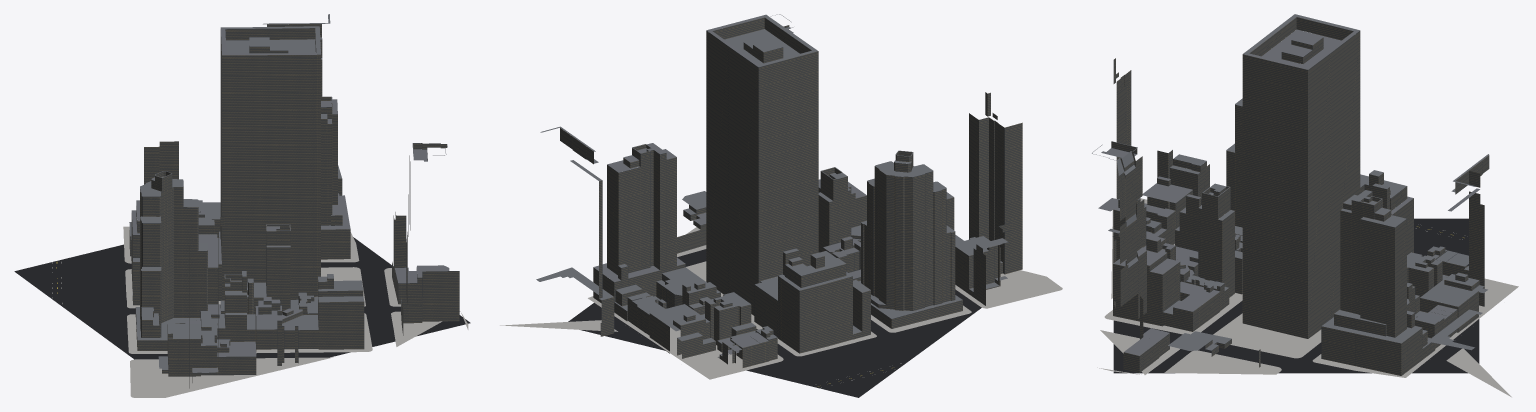
The picture shows the model from 3 angles, left to right: view 1: azimuth 30°, elevation 25°; view 2: azimuth 150°, elevation 25°; view 3: azimuth 270°, elevation 25°; orthographic projection. The views are drawn at different scales.
Visible parts, largest first — view 1: t3_3, detail; view 2: t3_3, detail; view 3: t3_3, detail.
Boxes of the visible parts, x1=… form: t3_3: x1=14, y1=14, x2=470, y2=388; detail: x1=52, y1=226, x2=468, y2=397; t3_3: x1=536, y1=14, x2=1022, y2=397; detail: x1=500, y1=227, x2=1062, y2=388; t3_3: x1=1092, y1=14, x2=1489, y2=375; detail: x1=1097, y1=198, x2=1518, y2=397.
Bounding box in the file's own units: 325 × 206 × 294.
Materials: 4 (2 with a texture image).
